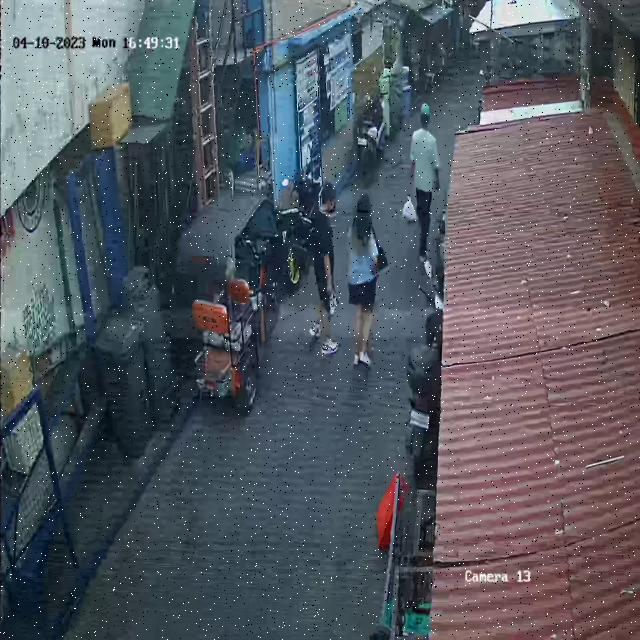garbage_dumping: (402, 199, 419, 230), (324, 285, 338, 316)
